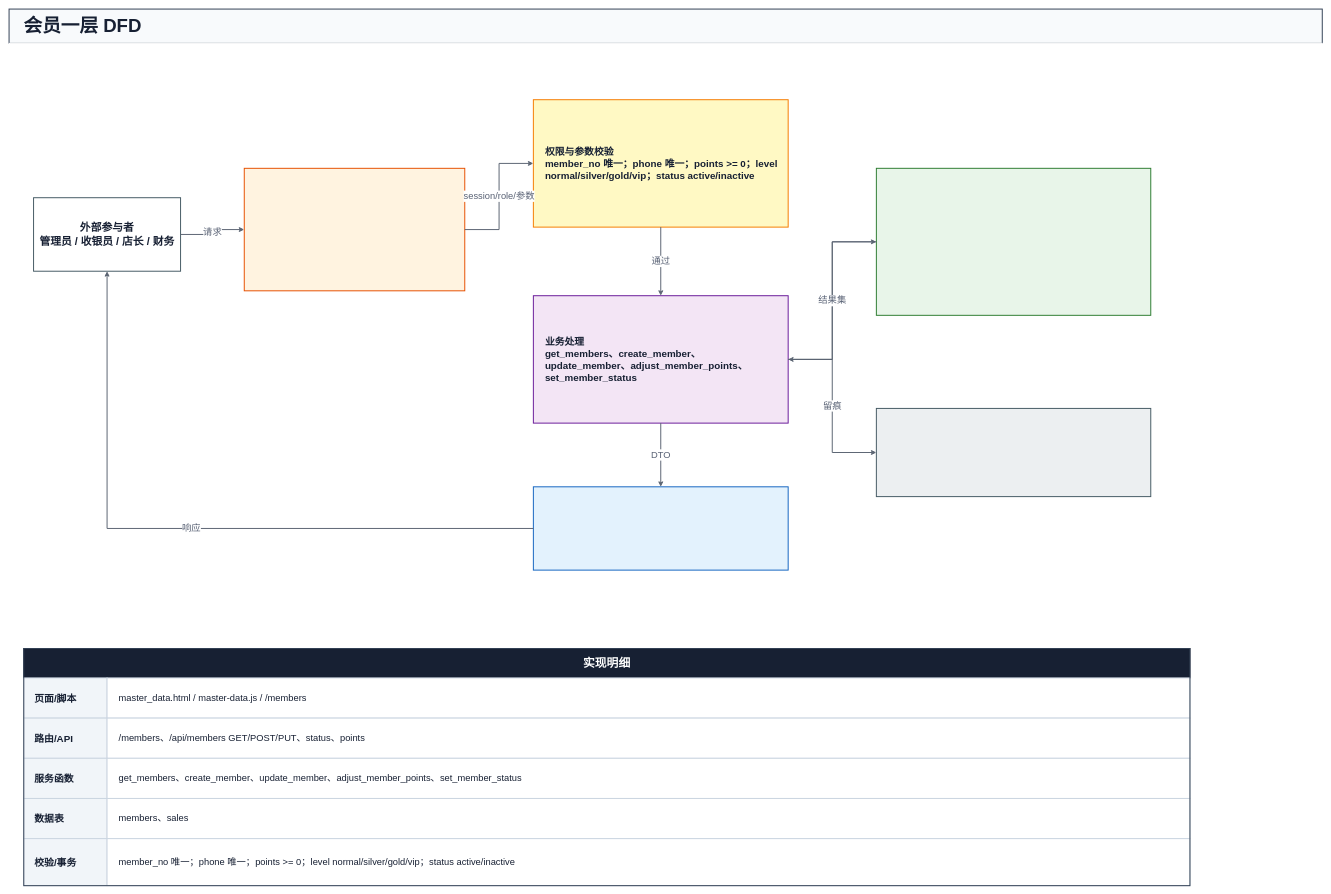
Image size: 1331x894. Some labels were removed from this diagram. The shapes that lost their labels are listed below. From the top down, each one's centre as x and y in pixels, then its label:
(x=665, y=53): 数据流图｜输入、处理、数据存储、输出、审计
(x=354, y=229): 输入/API /members、/api/members GET/POST/PUT、status、points
(x=1013, y=242): 数据存储 members、sales
(x=1013, y=452): 审计与状态 库存流水 / 公告已读 / 财务对账 / 操作时间戳
(x=660, y=528): 输出 分页列表 / 明细 DTO / 统计 JSON / message
